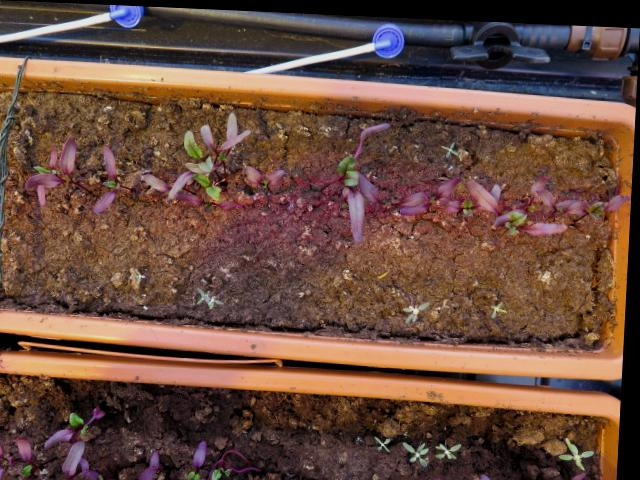crop: (91, 140, 124, 214), (242, 160, 291, 189)
weed: (559, 426, 602, 467), (395, 291, 434, 324), (402, 433, 435, 466), (436, 435, 468, 457), (488, 291, 516, 315), (438, 133, 464, 158), (374, 427, 398, 450)
